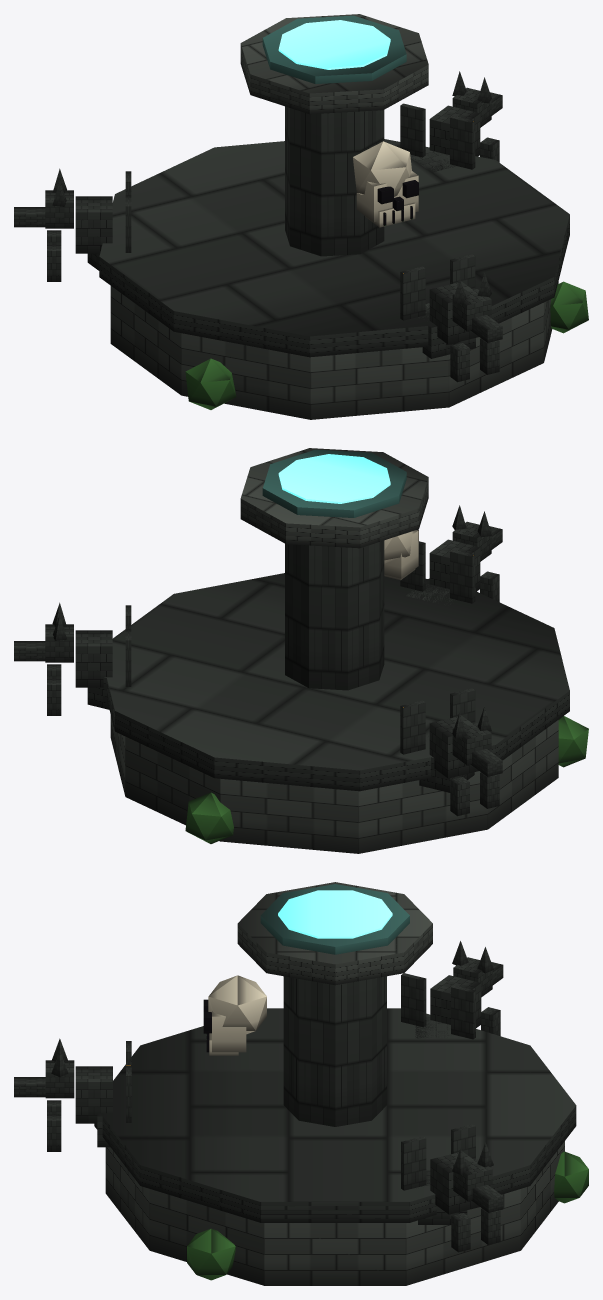
File: fountain.fbx
3 views of the same model, one above another, from view 1: azimuth 30°, elevation 25°; view 2: azimuth 150°, elevation 25°; view 3: azimuth 270°, elevation 25° (orthographic).
Visible parts, largest first — view 1: fountain; view 2: fountain; view 3: fountain.
Boxes of the visible parts, x1,y1,x2,y2 form: fountain: (14,14,588,419); fountain: (14,448,588,853); fountain: (14,882,588,1285).
Size of the model in its own units: 197 by 110 by 200.
Materials: 1 (1 with a texture image).
